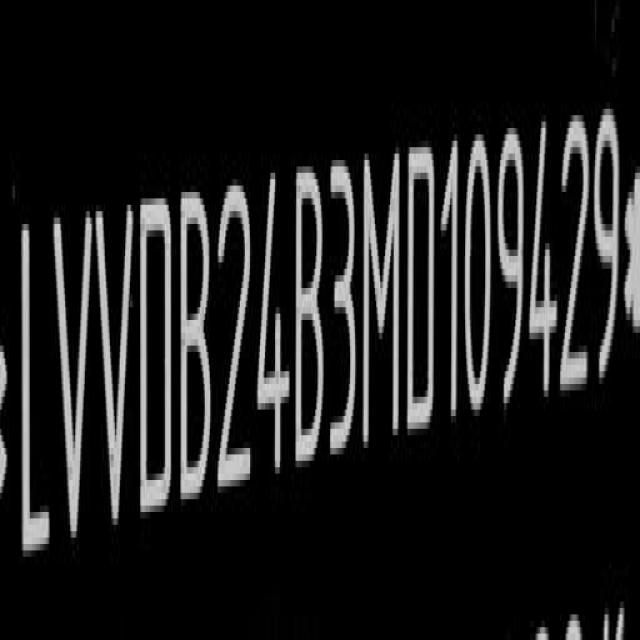0: (463, 132, 493, 426)
1: (438, 132, 464, 438)
2: (217, 178, 254, 505), (561, 114, 592, 403)
3: (329, 152, 358, 472)
4: (256, 168, 291, 491), (527, 118, 558, 420)
9: (496, 116, 527, 429), (593, 106, 622, 412)
B: (179, 178, 212, 514), (292, 161, 326, 481)
D: (138, 194, 174, 528), (407, 140, 435, 441)
L: (16, 192, 51, 564)
M: (362, 138, 404, 458)
V: (92, 190, 136, 545), (52, 201, 94, 562)
